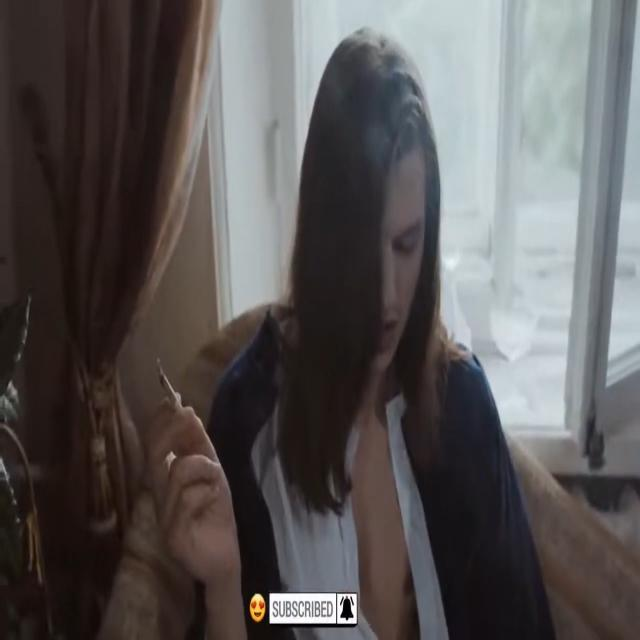Курение: (150, 344, 188, 410)
